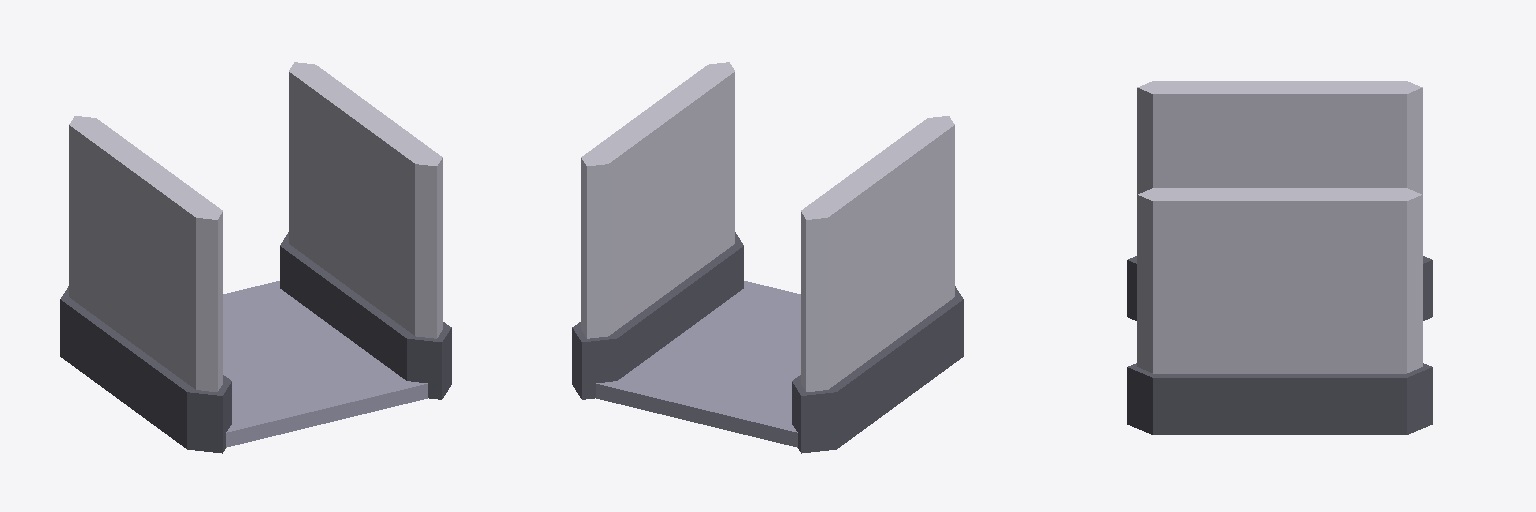
Rendered from sm_hallway_02.obj.
3 views of the same model, side by side, from view 1: azimuth 30°, elevation 25°; view 2: azimuth 150°, elevation 25°; view 3: azimuth 270°, elevation 25° (orthographic).
Visible parts, largest first — view 1: wall_01_168, wall_01_167, floor_square_169; view 2: wall_01_168, wall_01_167, floor_square_169; view 3: wall_01_167, wall_01_168.
Part boxes in pixels (x1,y1,x2,y2): wall_01_168: (60,116,231,453); wall_01_167: (280,62,451,399); floor_square_169: (223,281,427,447); wall_01_168: (792,116,963,453); wall_01_167: (572,62,743,399); floor_square_169: (596,281,800,447); wall_01_167: (1127,188,1432,434); wall_01_168: (1127,81,1432,320).
Bounding box in the file's own units: 1.21 × 1 × 1.21.